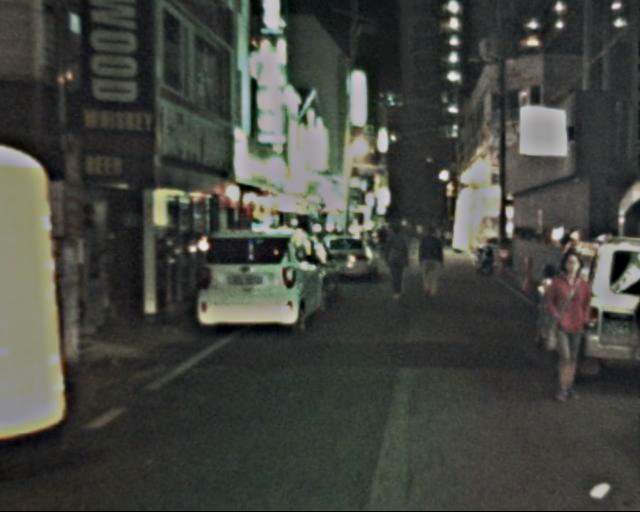person: (537, 254, 601, 403), (380, 222, 415, 298), (415, 225, 449, 300)
